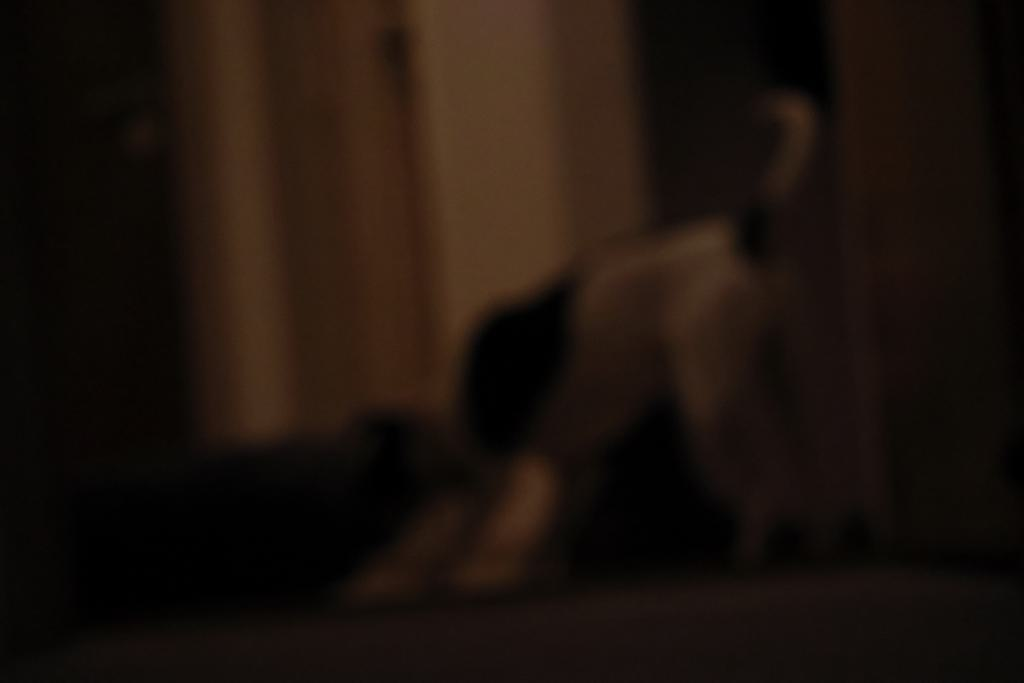Dog: (315, 71, 869, 605)
